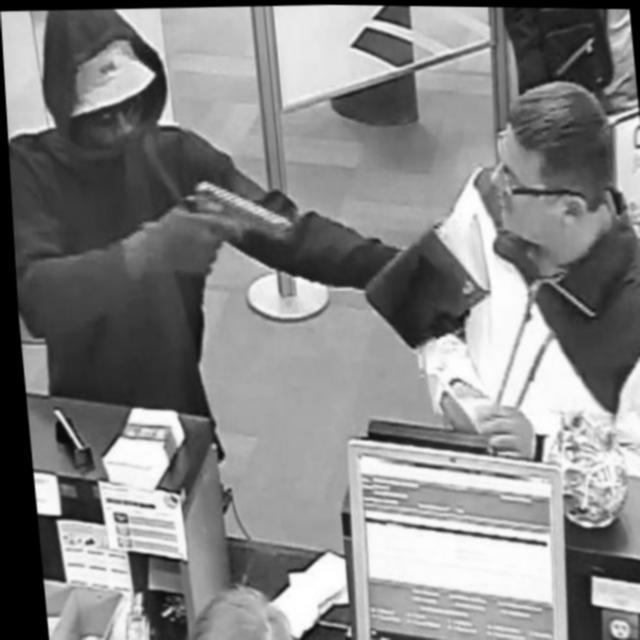weapon: (161, 154, 298, 268)
